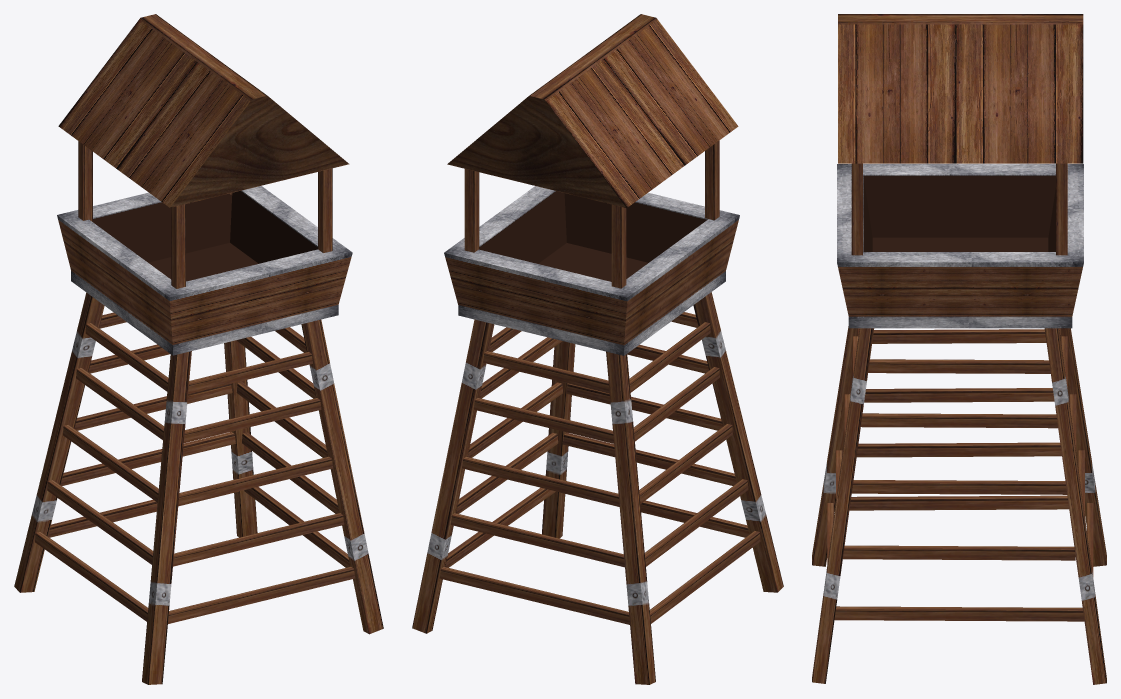
File: Sentry.FBX
The picture shows the model from 3 angles, left to right: view 1: azimuth 30°, elevation 25°; view 2: azimuth 150°, elevation 25°; view 3: azimuth 270°, elevation 25°; orthographic projection. The views are drawn at different scales.
Parts seen in each view (by area): view 1: Sentry; view 2: Sentry; view 3: Sentry.
Boxes of the visible parts, box(x1,y1,x2,y2) form: Sentry: box(14, 14, 383, 684); Sentry: box(412, 14, 783, 684); Sentry: box(812, 14, 1106, 684).
Bounding box in the file's own units: 102 × 226 × 99.41.
